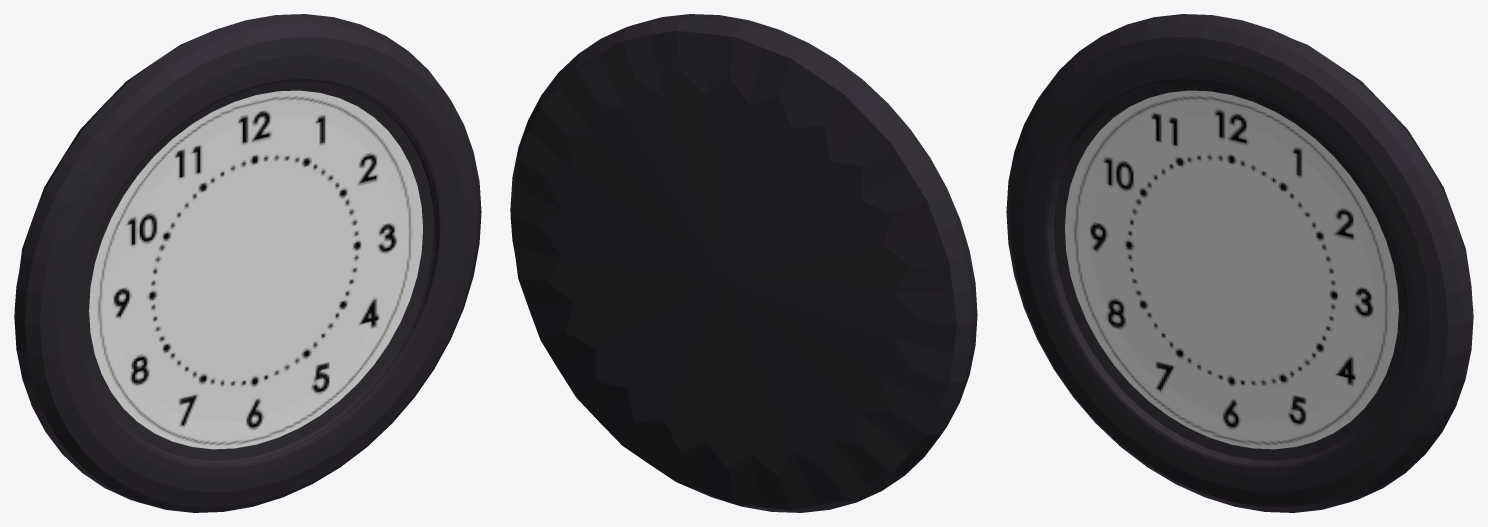
The model's file is Clock.fbx.
3 renders of one model, left to right at view 1: azimuth 30°, elevation 25°; view 2: azimuth 150°, elevation 25°; view 3: azimuth 330°, elevation 25°, orthographic.
Parts seen in each view (by area): view 1: Cylinder; view 2: Cylinder; view 3: Cylinder.
Part boxes in pixels (left/top/right/bottom): Cylinder: left=14, top=14, right=481, bottom=512; Cylinder: left=510, top=14, right=977, bottom=512; Cylinder: left=1006, top=14, right=1473, bottom=512.
Bounding box in the file's own units: 40.75 × 40.75 × 4.9.
2 materials, 1 textured.
